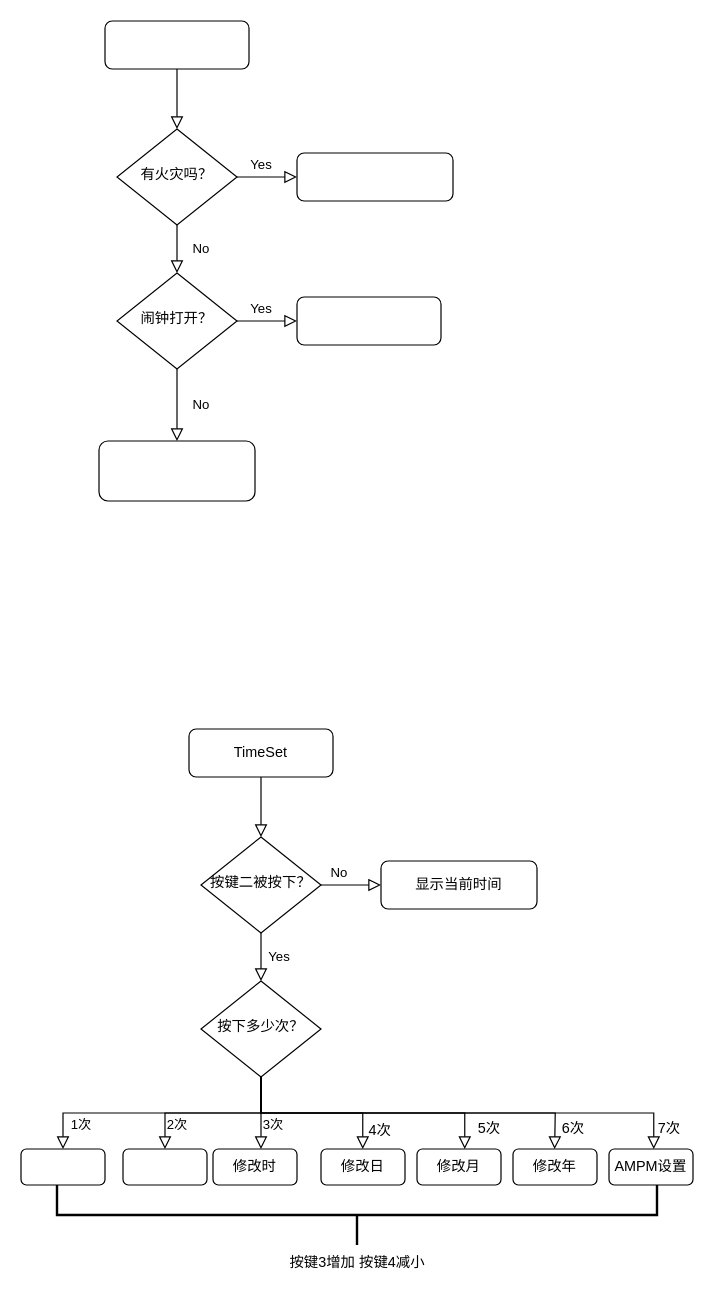
The diagram is 714 pixels wide and 1302 high, and some of its shapes have lost their labels. Each missing label, with the centre of its shape:
"TimeShow" goes at (x=176, y=44).
"修改分" goes at (x=164, y=1166).
"修改秒" goes at (x=62, y=1166).
"将第四行改为闹钟打开" goes at (x=368, y=320).
"显示当前年月日时分秒和当前年月日的农历" goes at (x=176, y=470).
"进入fireMode声光报警" goes at (x=374, y=176).
